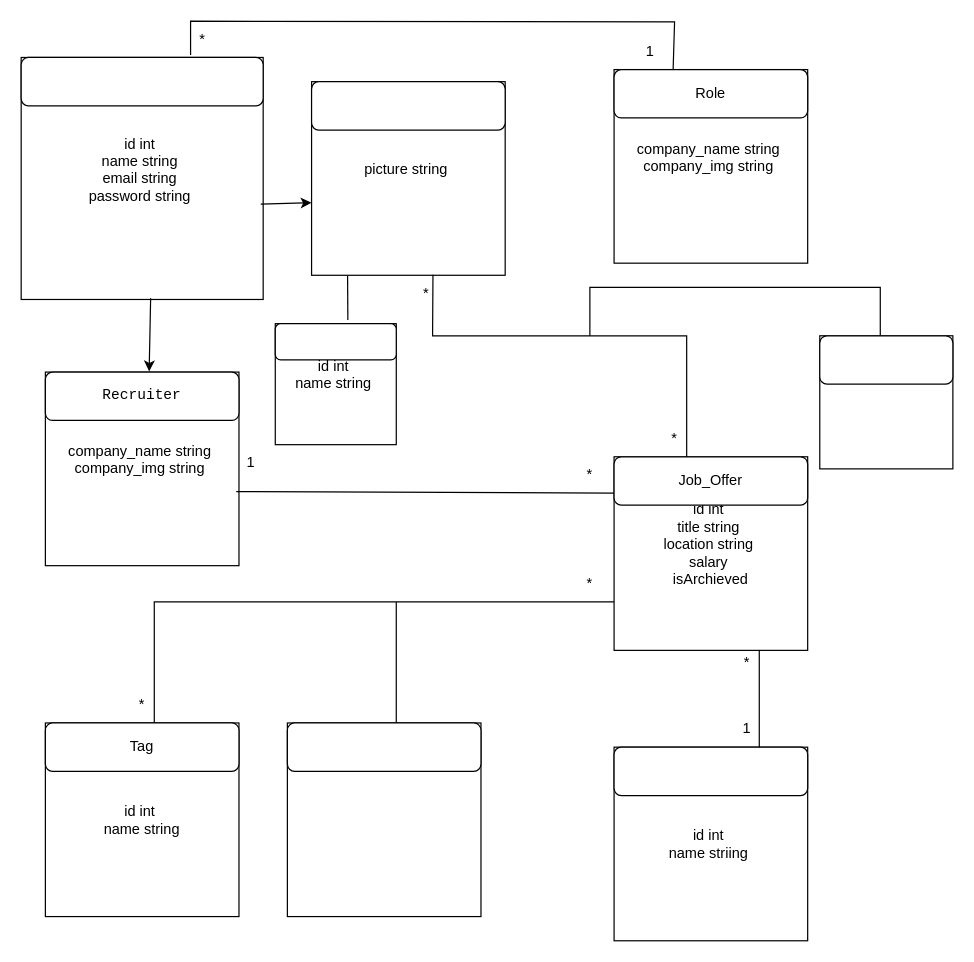
Some shapes in this 974 by 962 pixel diagram are drawn without their labels. Here are the shapes that lost their labels. From the top down, the centre of each, then its label:
(x=141, y=81): User
(x=407, y=105): Condidate
(x=335, y=341): Skill
(x=886, y=359): Condidate_JobOffer
(x=383, y=746): Tag_JobOffer
(x=710, y=771): Category
